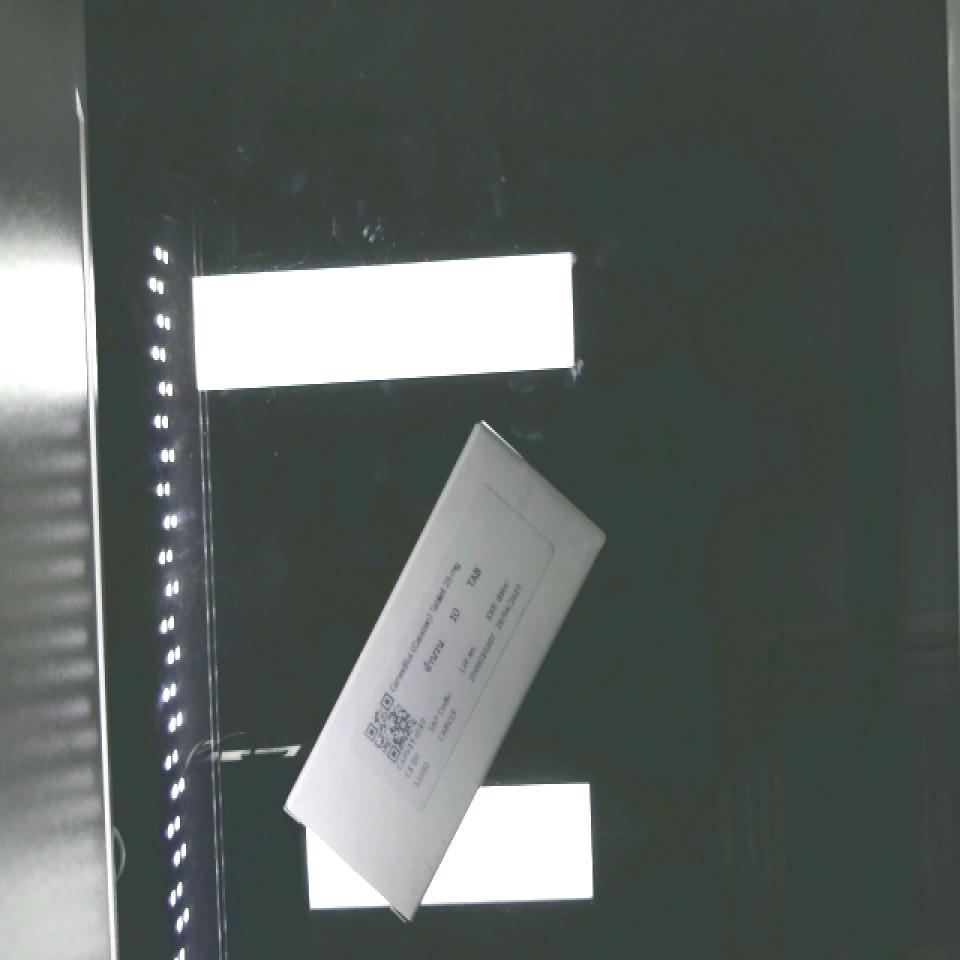medicine_box: (264, 420, 626, 923)
qr_code: (345, 680, 438, 778)
